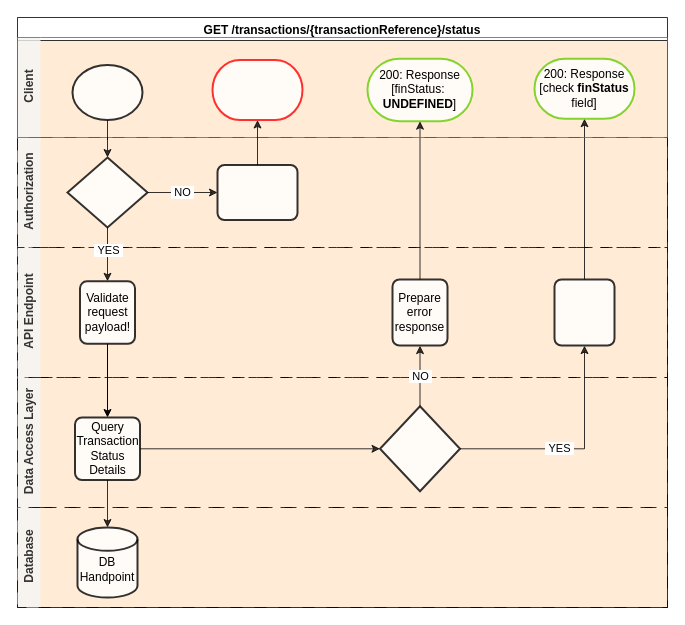
This 685x625 diagram has some shape labels left out. Here are the shapes that lost their labels. From the top down, the centre of each, then its label:
At (107,92): "Request".
At (257,89): "403: Forbidden".
At (107,192): "Authorized?".
At (257,192): "Invalid Device (API Key)".
At (584,312): "Prepare success response".
At (419,448): "Found details?".
